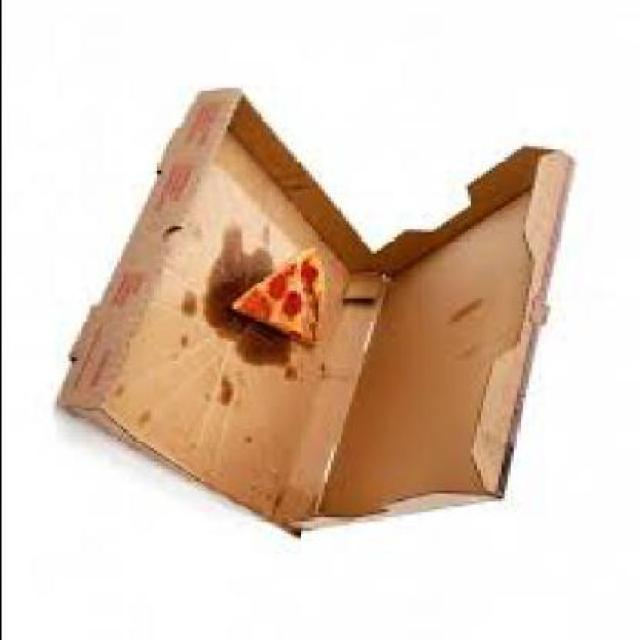BIODEGRADABLE: (231, 245, 329, 341)
CARDBOARD: (64, 88, 579, 534), (61, 82, 387, 533), (296, 144, 576, 528)
